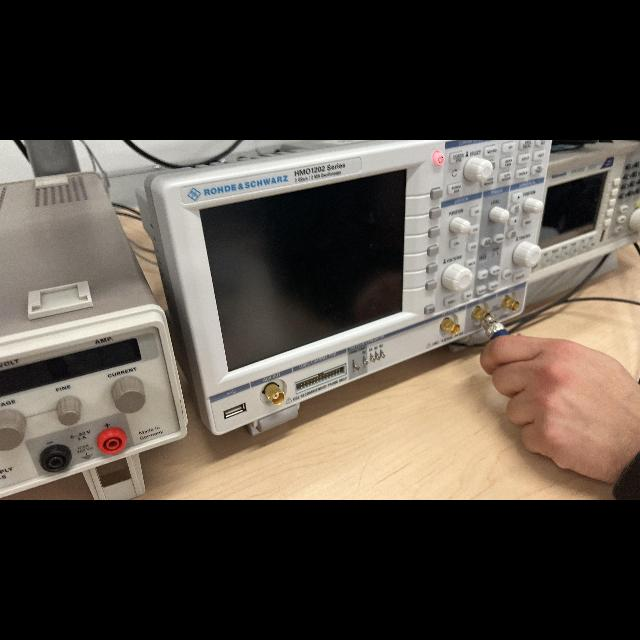Digital-Oscilloscope: (136, 140, 555, 435)
